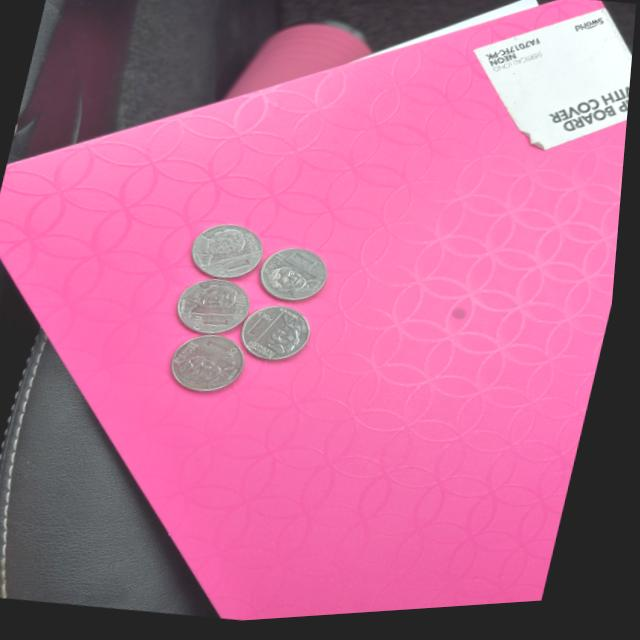1_New_Front: (207, 334, 251, 368), (198, 314, 241, 338), (291, 263, 334, 287), (251, 315, 280, 346), (219, 262, 257, 285)
